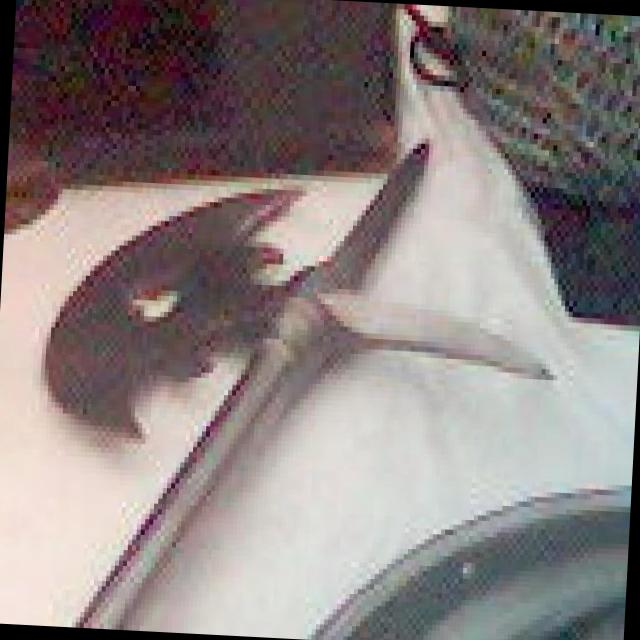Axe: (47, 145, 546, 630)
